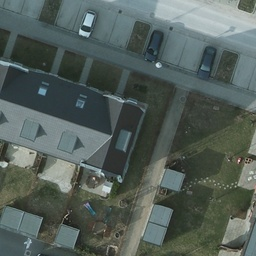car: (195, 45, 217, 80), (142, 32, 166, 63), (77, 9, 95, 39)
